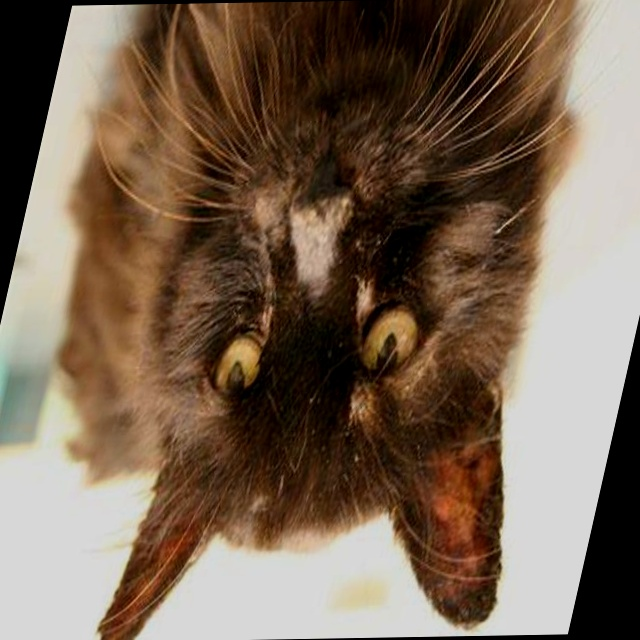ringworm: (397, 465, 519, 608)
